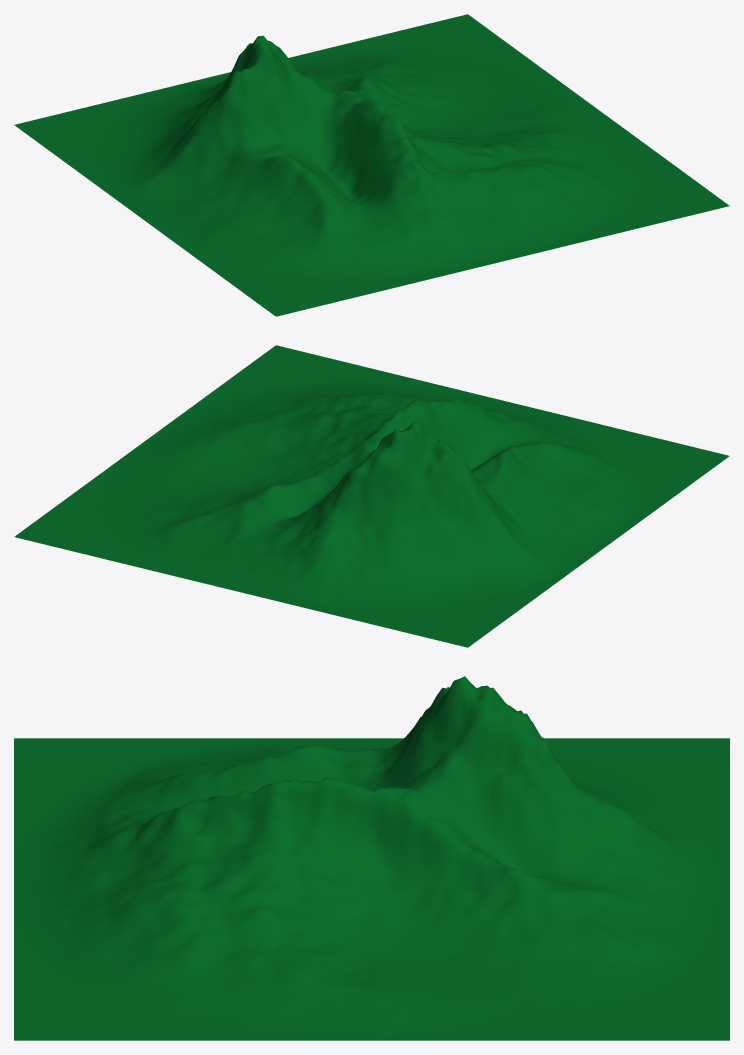
The model's file is distant_island1.glb.
The picture shows the model from 3 angles, top to bottom: view 1: azimuth 30°, elevation 25°; view 2: azimuth 150°, elevation 25°; view 3: azimuth 270°, elevation 25°; orthographic projection. The views are drawn at different scales.
Parts seen in each view (by area): view 1: Landscape; view 2: Landscape; view 3: Landscape.
Boxes of the visible parts, <box> form: Landscape: <box>14,14,729,316</box>; Landscape: <box>14,345,729,647</box>; Landscape: <box>14,676,729,1040</box>.
Size of the model in its own units: 2 by 0.4993 by 2.
